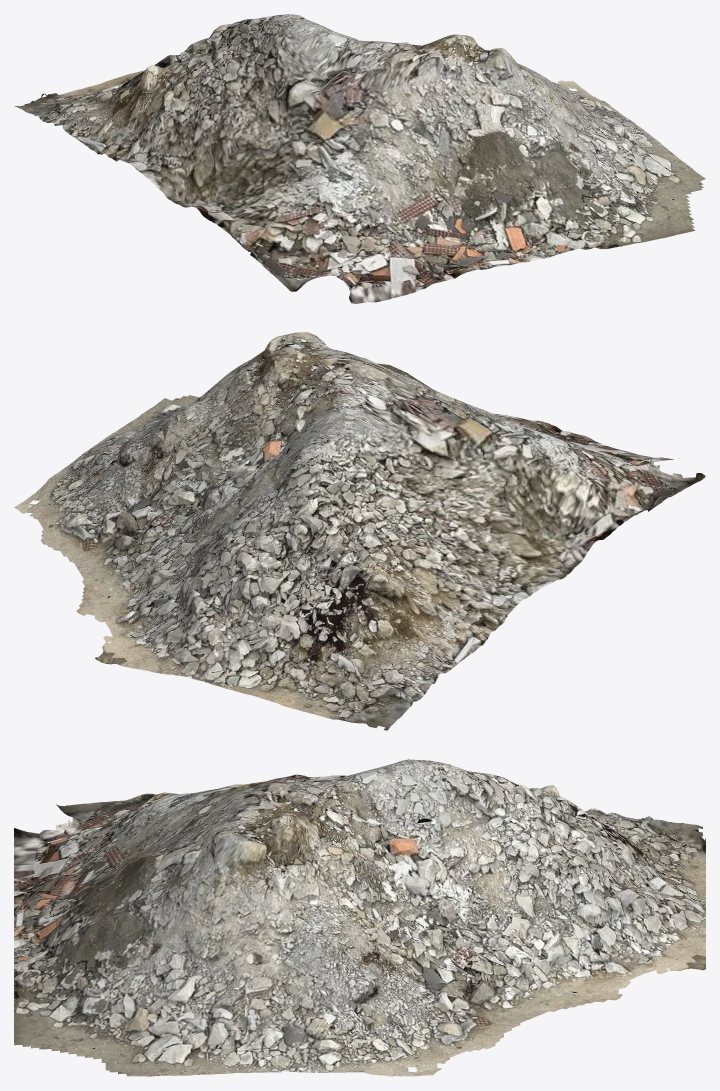
File: concrete-pile.glb
The picture shows the model from 3 angles, top to bottom: view 1: azimuth 30°, elevation 25°; view 2: azimuth 150°, elevation 25°; view 3: azimuth 270°, elevation 25°; orthographic projection. The views are drawn at different scales.
Visible parts, largest first — view 1: Node; view 2: Node; view 3: Node.
Boxes of the visible parts, x1=… form: Node: x1=14, y1=14, x2=705, y2=303; Node: x1=14, y1=332, x2=705, y2=730; Node: x1=14, y1=759, x2=705, y2=1076.
Bounding box in the file's own units: 3.15 × 0.945 × 3.67.
Materials: 1 (1 with a texture image).
